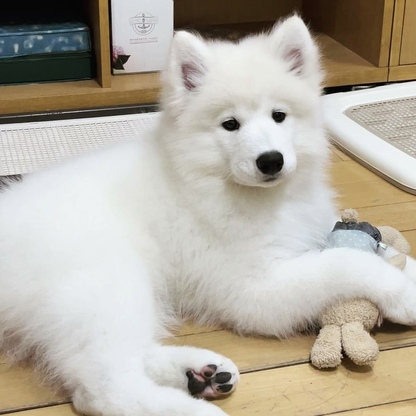samoyed: (1, 8, 416, 416)
